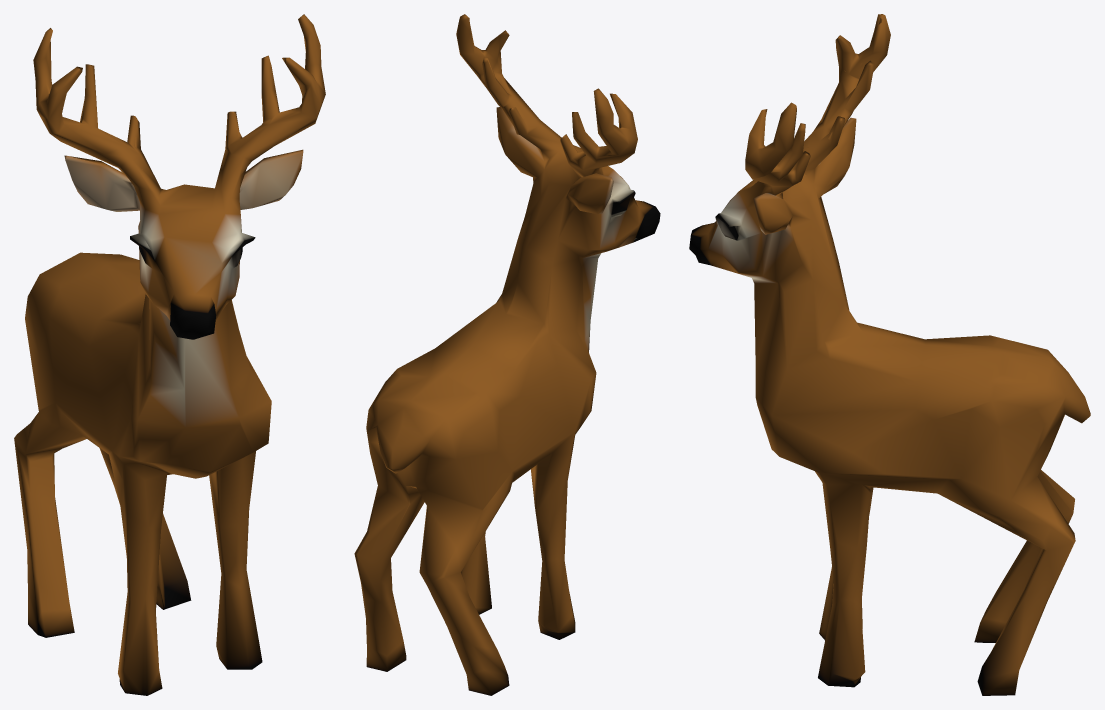
The model's file is gen3d-deer-lod1.glb.
3 views of the same model, side by side, from view 1: azimuth 30°, elevation 25°; view 2: azimuth 150°, elevation 25°; view 3: azimuth 270°, elevation 25° (orthographic). The views are drawn at different scales.
Parts seen in each view (by area): view 1: part_0; view 2: part_0; view 3: part_0.
Part boxes in pixels (left/top/right/bottom): part_0: left=14, top=14, right=325, bottom=695; part_0: left=354, top=14, right=660, bottom=695; part_0: left=689, top=14, right=1090, bottom=695.
Bounding box in the file's own units: 0.3808 × 0.9993 × 0.6083.
